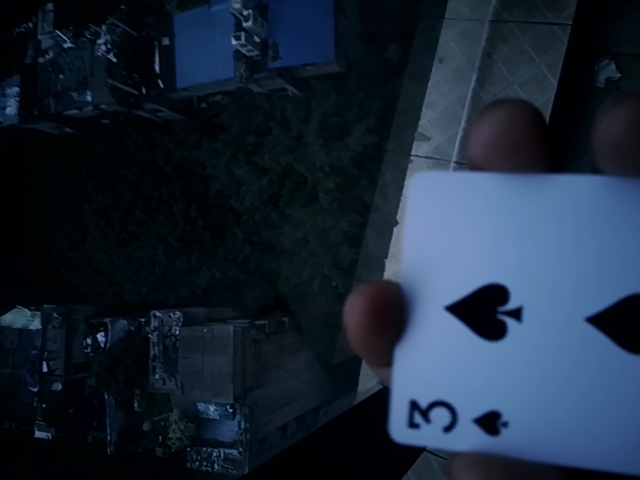ht 3: (372, 170, 637, 480)
